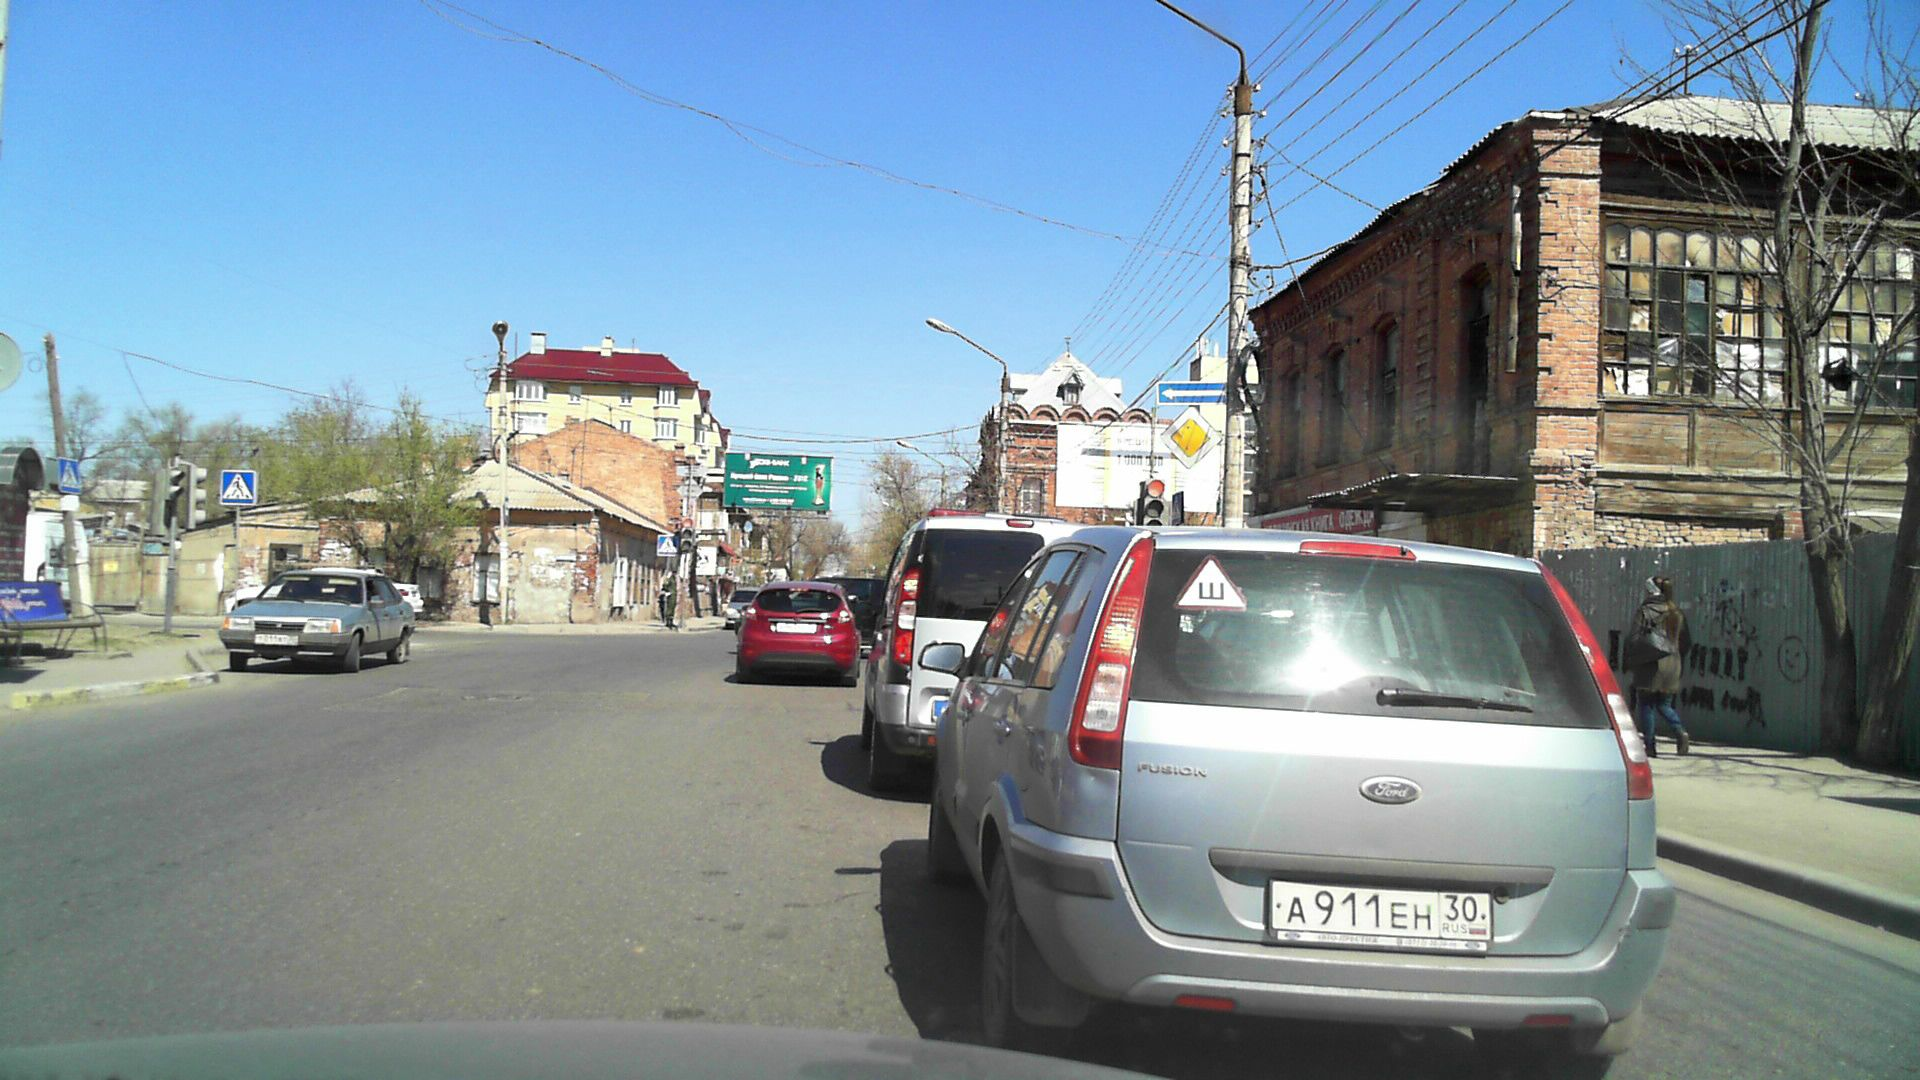One-Way Traffic: (1156, 381, 1226, 404)
Pedestrian Crossing: (222, 469, 256, 504)
